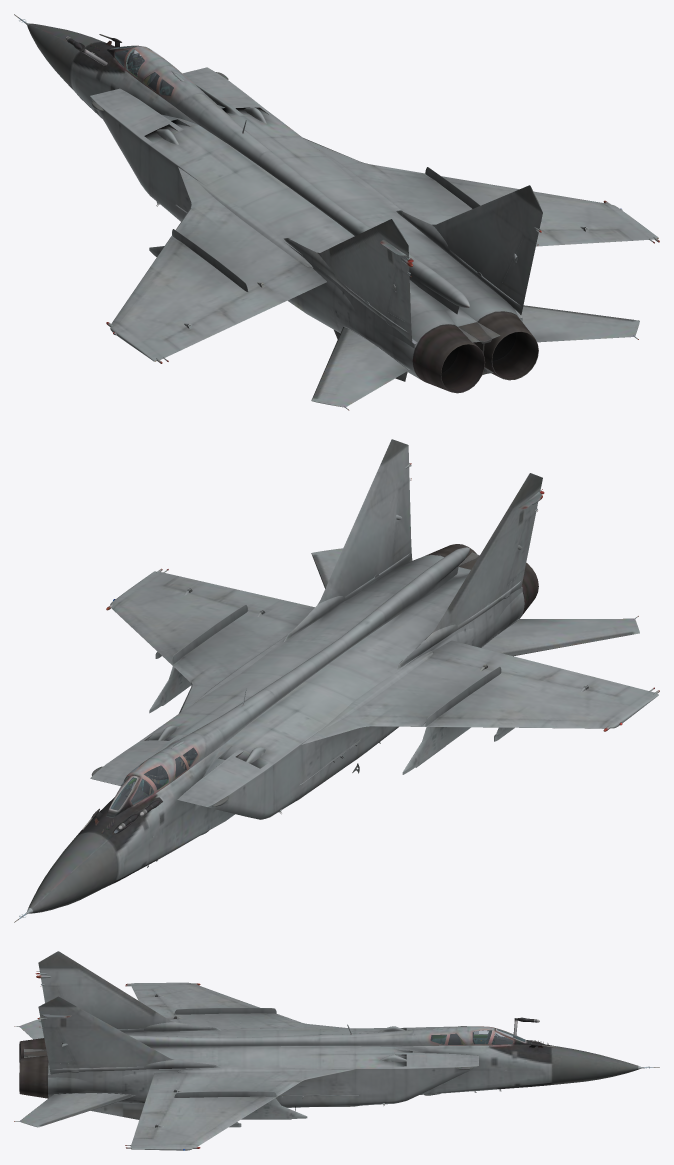
Rendered from e_mig31.glb.
3 views of the same model, one above another, from view 1: azimuth 30°, elevation 25°; view 2: azimuth 150°, elevation 25°; view 3: azimuth 270°, elevation 25° (orthographic). The views are drawn at different scales.
Parts seen in each view (by area): view 1: body|Body, body|glass; view 2: body|Body, body|glass; view 3: body|Body, body|glass, body|Cockpit.
Part boxes in pixels (x1,y1,x2,y2): body|Body: [14, 14, 659, 410]; body|glass: [113, 46, 410, 274]; body|Body: [14, 439, 659, 922]; body|glass: [111, 508, 537, 832]; body|Body: [14, 951, 659, 1150]; body|glass: [41, 984, 524, 1044]; body|Cockpit: [432, 1030, 521, 1044].
Bounding box in the file's own units: 13.91 × 5.09 × 22.71.
Materials: 4 (3 with a texture image).
